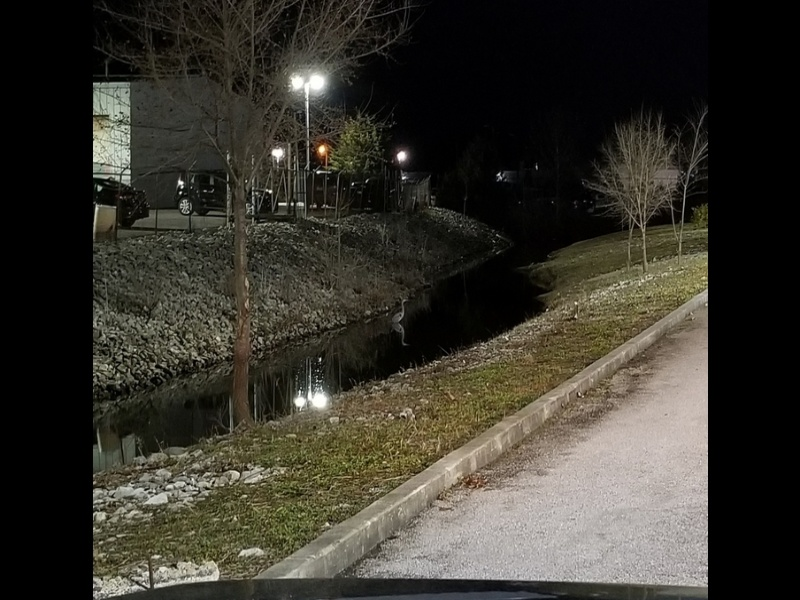heron: (388, 297, 408, 324)
